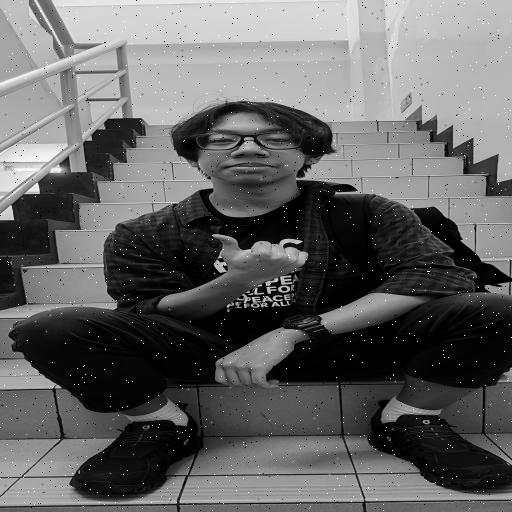back: (186, 226, 331, 292)
